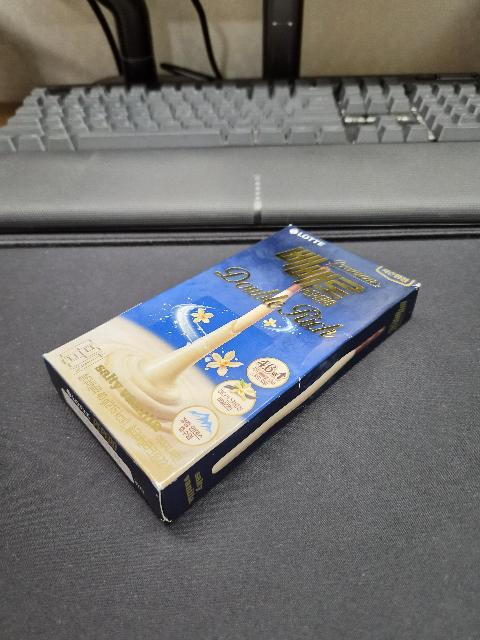pepero: (43, 224, 421, 523)
